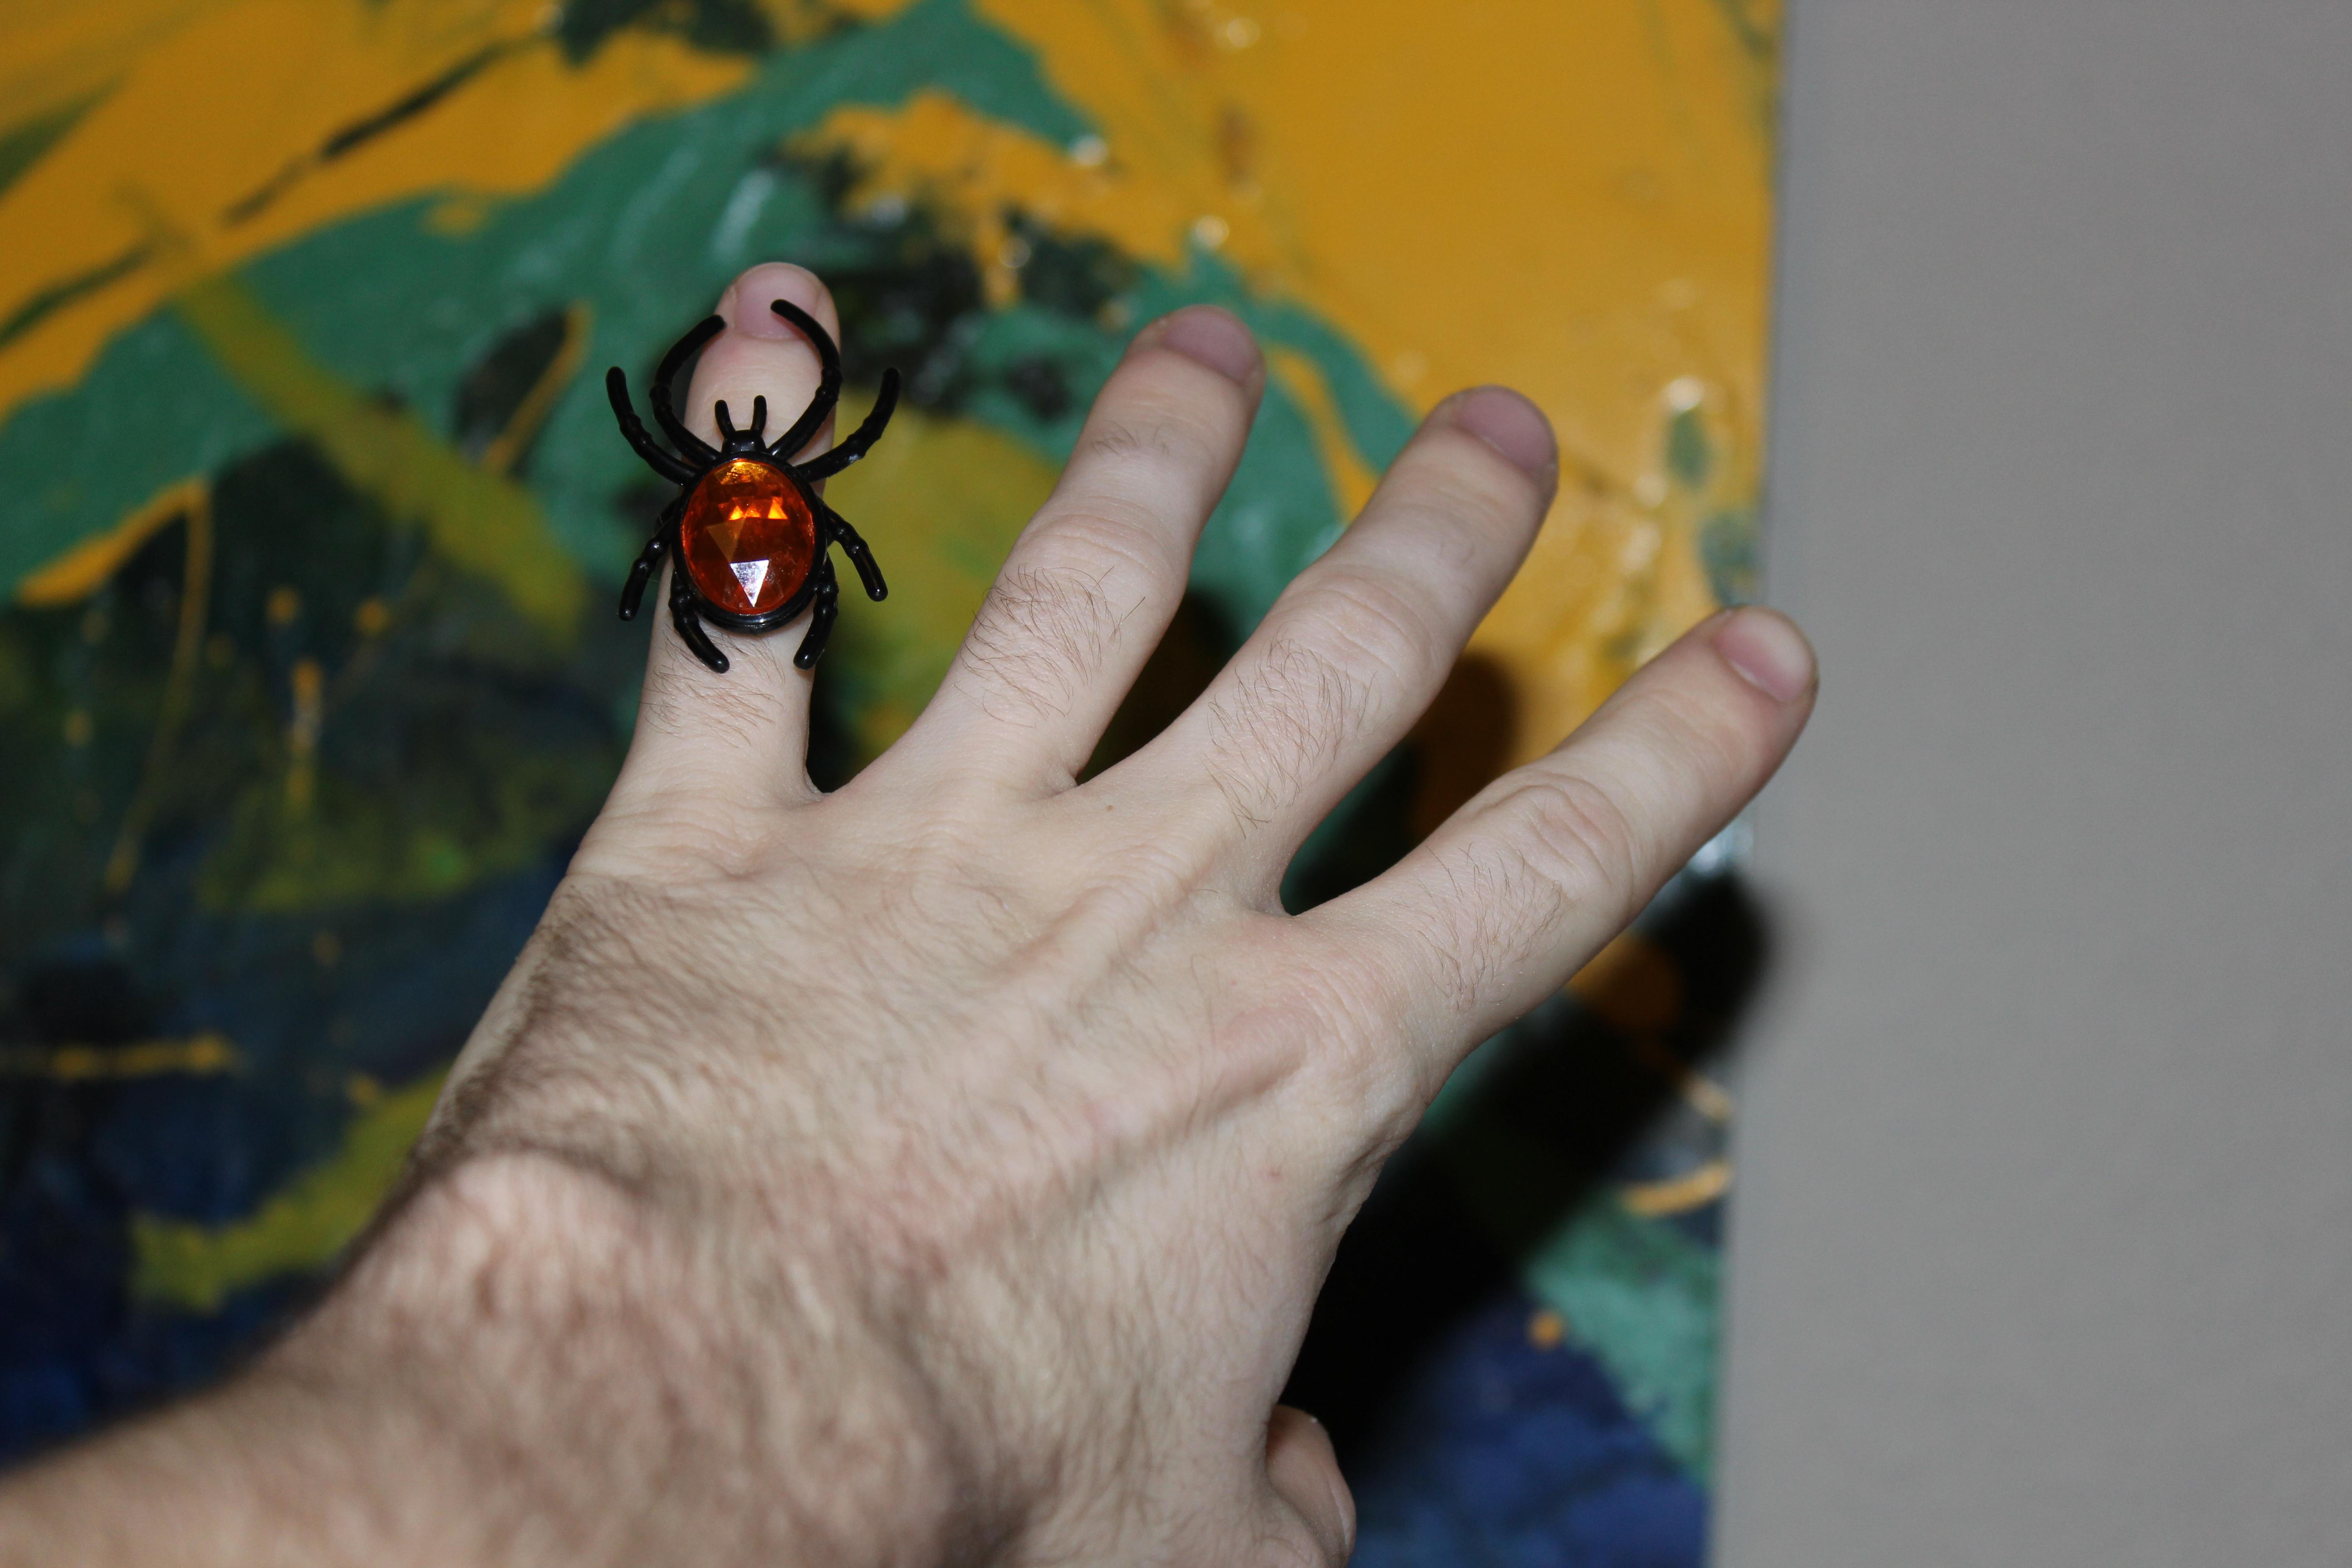spiderRing: (576, 285, 935, 700)
